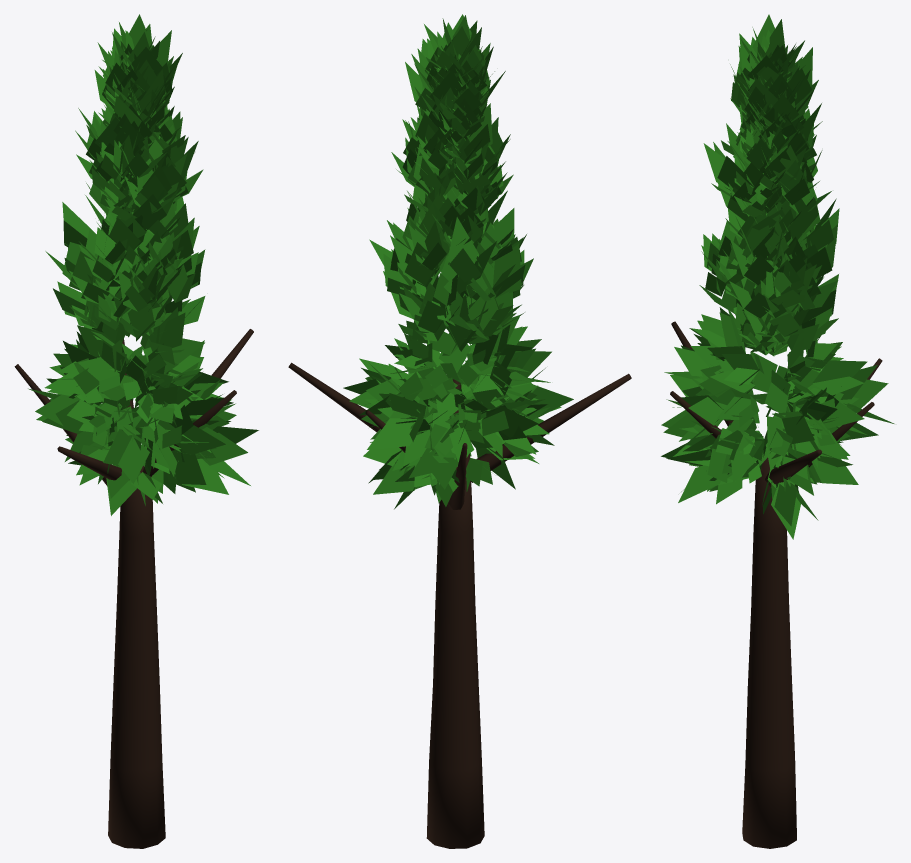
File: Tree_08_B_LOD0.obj
The picture shows the model from 3 angles, left to right: view 1: azimuth 30°, elevation 25°; view 2: azimuth 150°, elevation 25°; view 3: azimuth 270°, elevation 25°; orthographic projection.
Visible parts, largest first — view 1: Leaves, Trunk; view 2: Leaves, Trunk; view 3: Leaves, Trunk.
Boxes of the visible parts, x1,y1,x2,y2 form: Leaves: (28, 14, 258, 515); Trunk: (14, 329, 253, 848); Leaves: (343, 14, 573, 509); Trunk: (288, 362, 631, 848); Leaves: (661, 14, 894, 539); Trunk: (670, 321, 882, 848).
Bounding box in the file's own units: 3.87 × 11.26 × 2.96.
